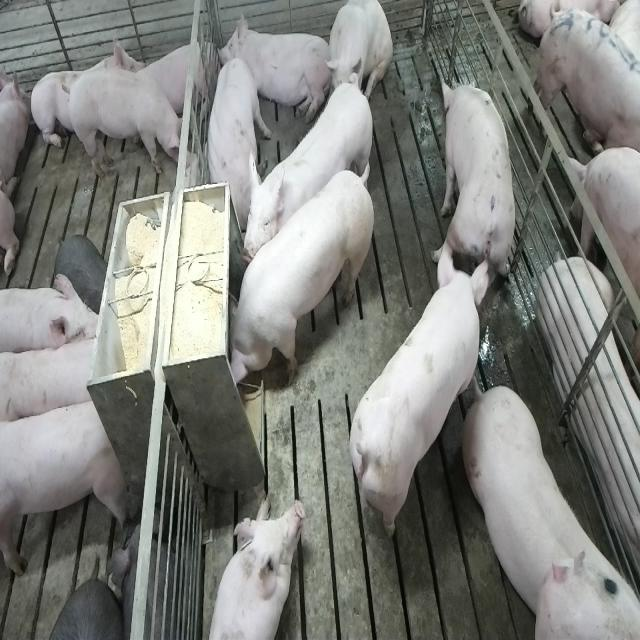Feeding: (218, 163, 370, 392)
Sitting: (322, 0, 392, 111)
Standing: (458, 376, 634, 632), (343, 246, 488, 550), (243, 77, 377, 268), (2, 393, 132, 581), (436, 75, 518, 292), (537, 0, 640, 166), (63, 71, 188, 177), (3, 329, 104, 428), (207, 57, 267, 215), (0, 274, 104, 358)
Sternal_lying: (204, 496, 304, 640), (32, 30, 144, 156), (218, 12, 330, 128), (137, 35, 213, 121)
